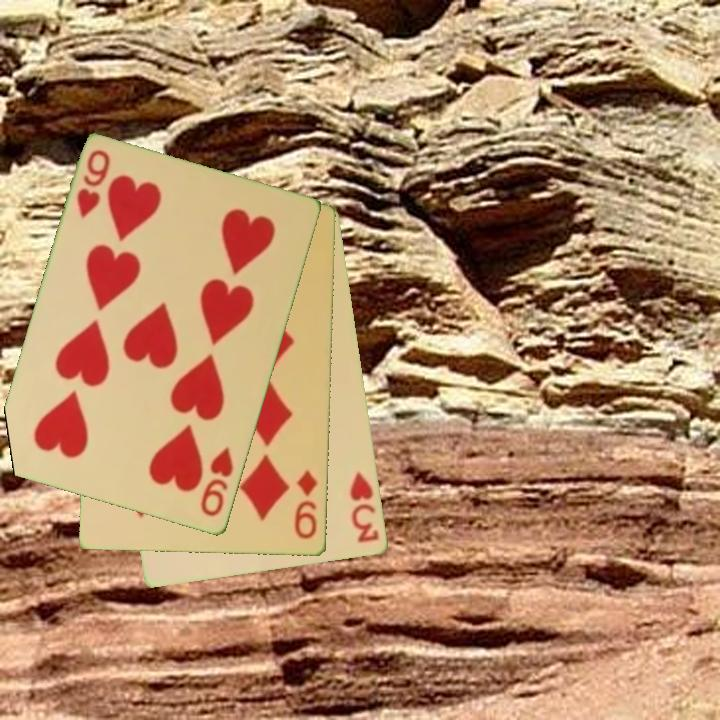3h: (347, 469, 383, 546)
9d: (292, 467, 321, 542)
9h: (197, 444, 237, 520), (73, 146, 113, 222)
